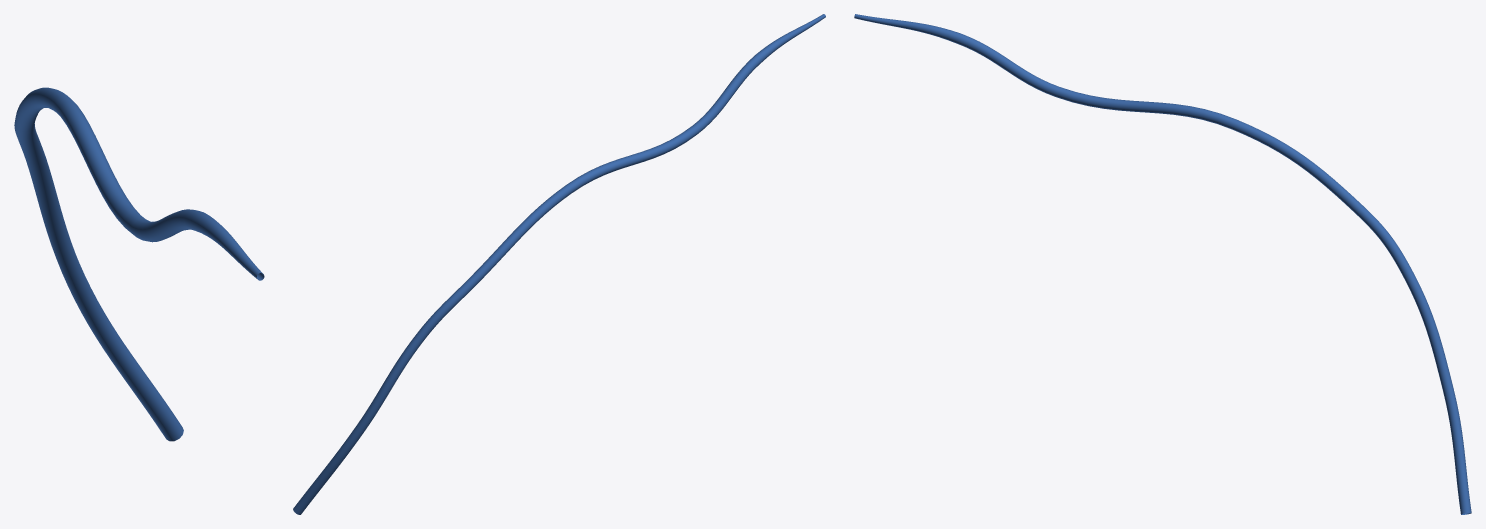
The picture shows the model from 3 angles, left to right: view 1: azimuth 30°, elevation 25°; view 2: azimuth 150°, elevation 25°; view 3: azimuth 270°, elevation 25°; orthographic projection. The views are drawn at different scales.
Parts seen in each view (by area): view 1: 右侧耳后静脉; view 2: 右侧耳后静脉; view 3: 右侧耳后静脉.
Part boxes in pixels (x1,y1,x2,y2): 右侧耳后静脉: [14, 87, 264, 441]; 右侧耳后静脉: [293, 14, 825, 514]; 右侧耳后静脉: [854, 14, 1471, 514].
Bounding box in the file's own units: 0.0412 × 0.0558 × 0.083.
